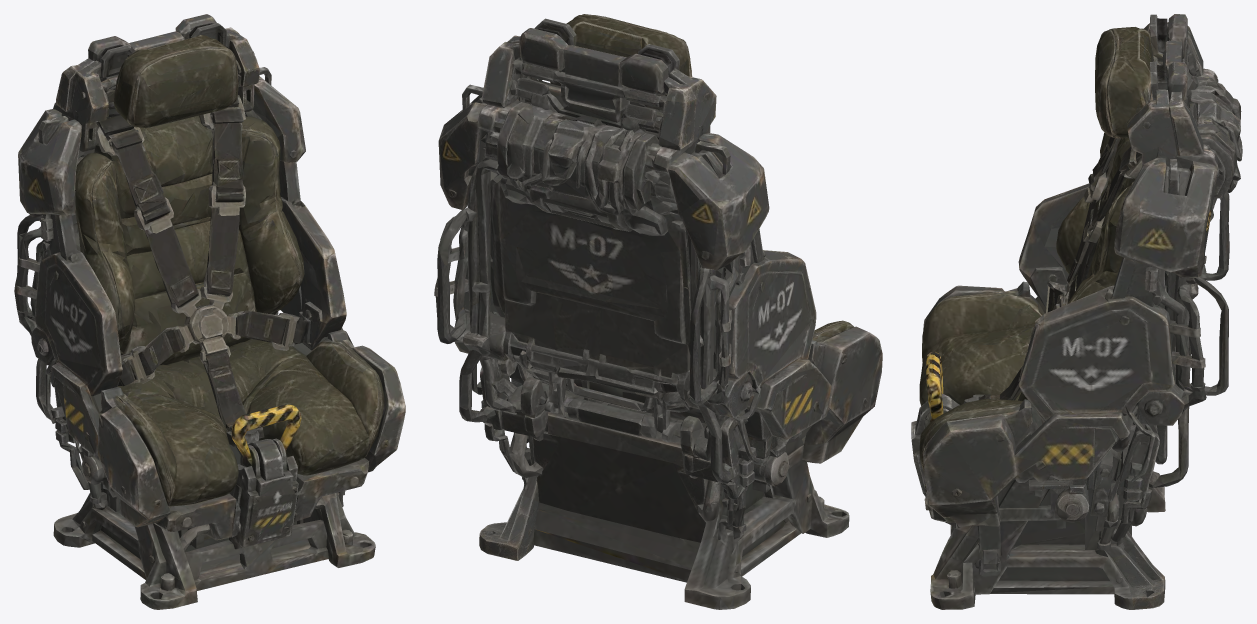
File: seat.glb
3 renders of one model, left to right at view 1: azimuth 30°, elevation 25°; view 2: azimuth 150°, elevation 25°; view 3: azimuth 270°, elevation 25°, orthographic. The views are drawn at different scales.
Parts seen in each view (by area): view 1: Mesh_0; view 2: Mesh_0; view 3: Mesh_0.
Part boxes in pixels (x1=…): Mesh_0: x1=14, y1=14, x2=405, y2=609; Mesh_0: x1=434, y1=14, x2=882, y2=609; Mesh_0: x1=911, y1=14, x2=1242, y2=609.
Bounding box in the file's own units: 1.16 × 1.9 × 1.12.
1 material, 1 textured.
